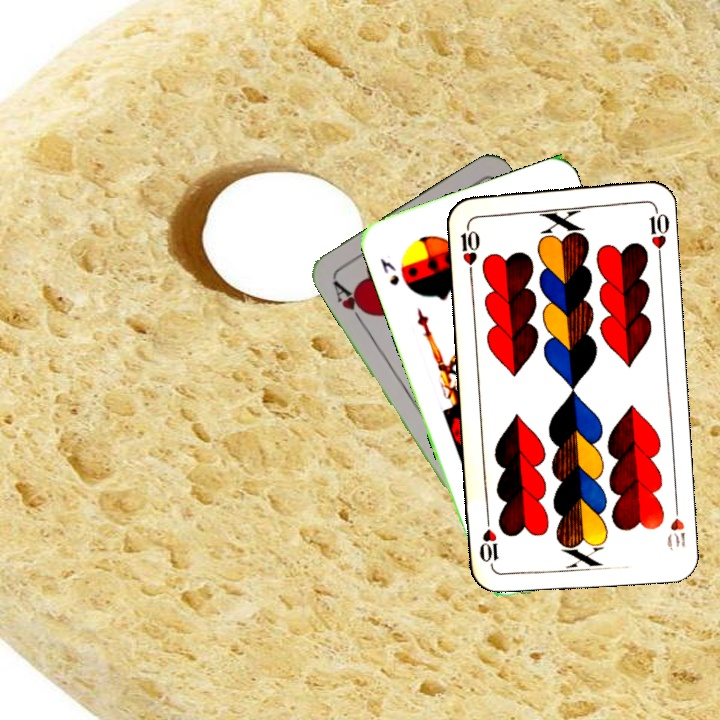H10: (456, 218, 483, 278), (663, 496, 688, 553)
HA: (329, 276, 372, 327)
SK: (376, 254, 402, 289)
